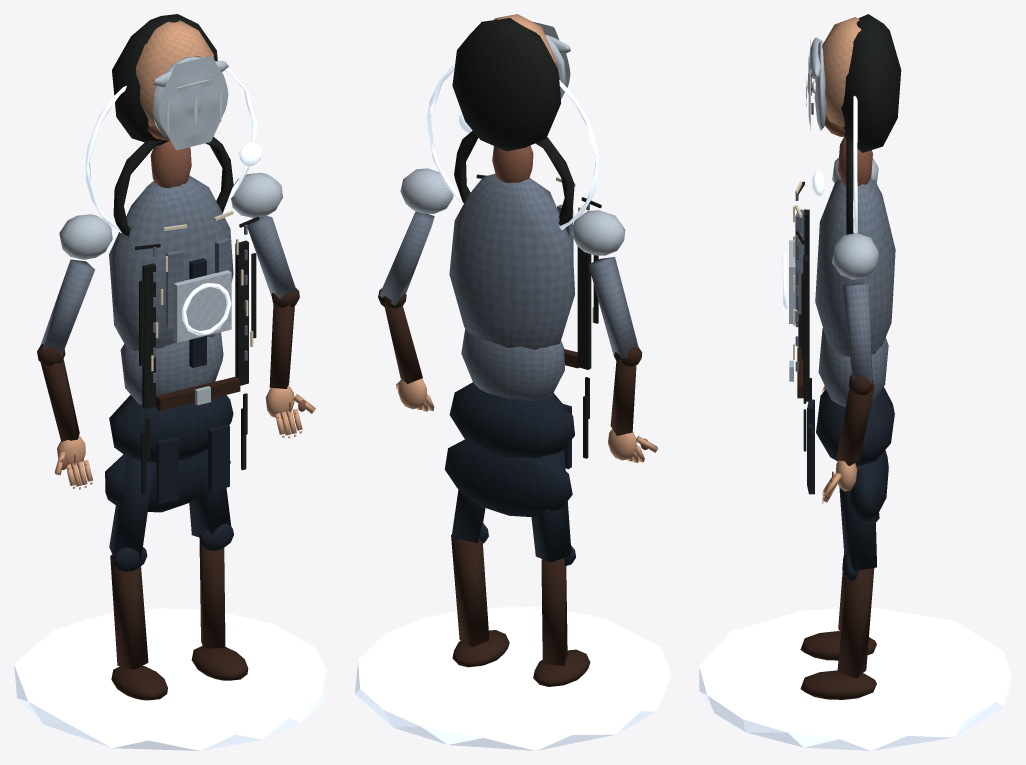
Rendered from iron-oracle-lod1.glb.
The picture shows the model from 3 angles, left to right: view 1: azimuth 30°, elevation 25°; view 2: azimuth 150°, elevation 25°; view 3: azimuth 270°, elevation 25°; orthographic projection.
Parts seen in each view (by area): view 1: iron-oracle_table_scale_base_lod1, iron-oracle_ribcage_lod1, iron-oracle_pelvis_lod1, iron-oracle_mask_sculpt_surface_lod1, iron-oracle_abdomen_lod1, iron-oracle_hood_back_lod1, iron-oracle_head_lod1, iron-oracle_left_shin_lod1, iron-oracle_oracle_instrument_panel_lod1, iron-oracle_left_thigh_lod1, iron-oracle_right_shin_lod1, iron-oracle_left_upper_arm_lod1 (+25 smaller); view 2: iron-oracle_table_scale_base_lod1, iron-oracle_ribcage_lod1, iron-oracle_hood_back_lod1, iron-oracle_pelvis_lod1, iron-oracle_coat_tail_lod1, iron-oracle_abdomen_lod1, iron-oracle_right_shin_lod1, iron-oracle_left_upper_arm_lod1, iron-oracle_left_shin_lod1, iron-oracle_right_upper_arm_lod1, iron-oracle_left_thigh_lod1, iron-oracle_raised_collar_lod1 (+12 smaller); view 3: iron-oracle_table_scale_base_lod1, iron-oracle_ribcage_lod1, iron-oracle_hood_back_lod1, iron-oracle_pelvis_lod1, iron-oracle_right_shin_lod1, iron-oracle_head_lod1, iron-oracle_right_upper_arm_lod1, iron-oracle_abdomen_lod1, iron-oracle_right_thigh_lod1, iron-oracle_coat_tail_lod1, iron-oracle_right_forearm_lod1, iron-oracle_right_shoulder_lod1 (+8 smaller).
Part boxes in pixels (x1,y1,x2,y2): iron-oracle_table_scale_base_lod1: (14,608,326,750); iron-oracle_ribcage_lod1: (109,175,233,350); iron-oracle_pelvis_lod1: (109,395,233,462); iron-oracle_mask_sculpt_surface_lod1: (159,56,228,149); iron-oracle_abdomen_lod1: (120,332,223,404); iron-oracle_hood_back_lod1: (112,14,217,145); iron-oracle_head_lod1: (135,20,213,126); iron-oracle_left_shin_lod1: (110,554,148,669); iron-oracle_oracle_instrument_panel_lod1: (173,270,231,342); iron-oracle_left_thigh_lod1: (109,455,154,560); iron-oracle_right_shin_lod1: (199,538,225,648); iron-oracle_left_upper_arm_lod1: (40,259,94,356); iron-oracle_table_scale_base_lod1: (355,607,670,750); iron-oracle_ribcage_lod1: (449,174,574,349); iron-oracle_hood_back_lod1: (452,18,560,151); iron-oracle_pelvis_lod1: (449,382,574,458); iron-oracle_coat_tail_lod1: (444,439,572,517); iron-oracle_abdomen_lod1: (461,329,564,400); iron-oracle_right_shin_lod1: (451,534,489,647); iron-oracle_left_upper_arm_lod1: (588,257,638,358); iron-oracle_left_shin_lod1: (541,558,567,665); iron-oracle_right_upper_arm_lod1: (379,211,434,305); iron-oracle_left_thigh_lod1: (531,449,571,562); iron-oracle_raised_collar_lod1: (454,130,574,225); iron-oracle_table_scale_base_lod1: (699,607,1011,750); iron-oracle_ribcage_lod1: (815,178,895,356); iron-oracle_hood_back_lod1: (841,14,901,152); iron-oracle_pelvis_lod1: (816,387,894,465); iron-oracle_right_shin_lod1: (837,568,874,678); iron-oracle_head_lod1: (822,17,861,127); iron-oracle_right_upper_arm_lod1: (842,283,872,383); iron-oracle_abdomen_lod1: (818,328,888,406); iron-oracle_right_thigh_lod1: (839,461,876,570); iron-oracle_coat_tail_lod1: (850,450,888,521); iron-oracle_right_forearm_lod1: (836,384,874,466); iron-oracle_right_shoulder_lod1: (832,233,878,279).
Bounding box in the file's own units: 0.842 × 1.98 × 0.842.
14 materials, 12 textured.
